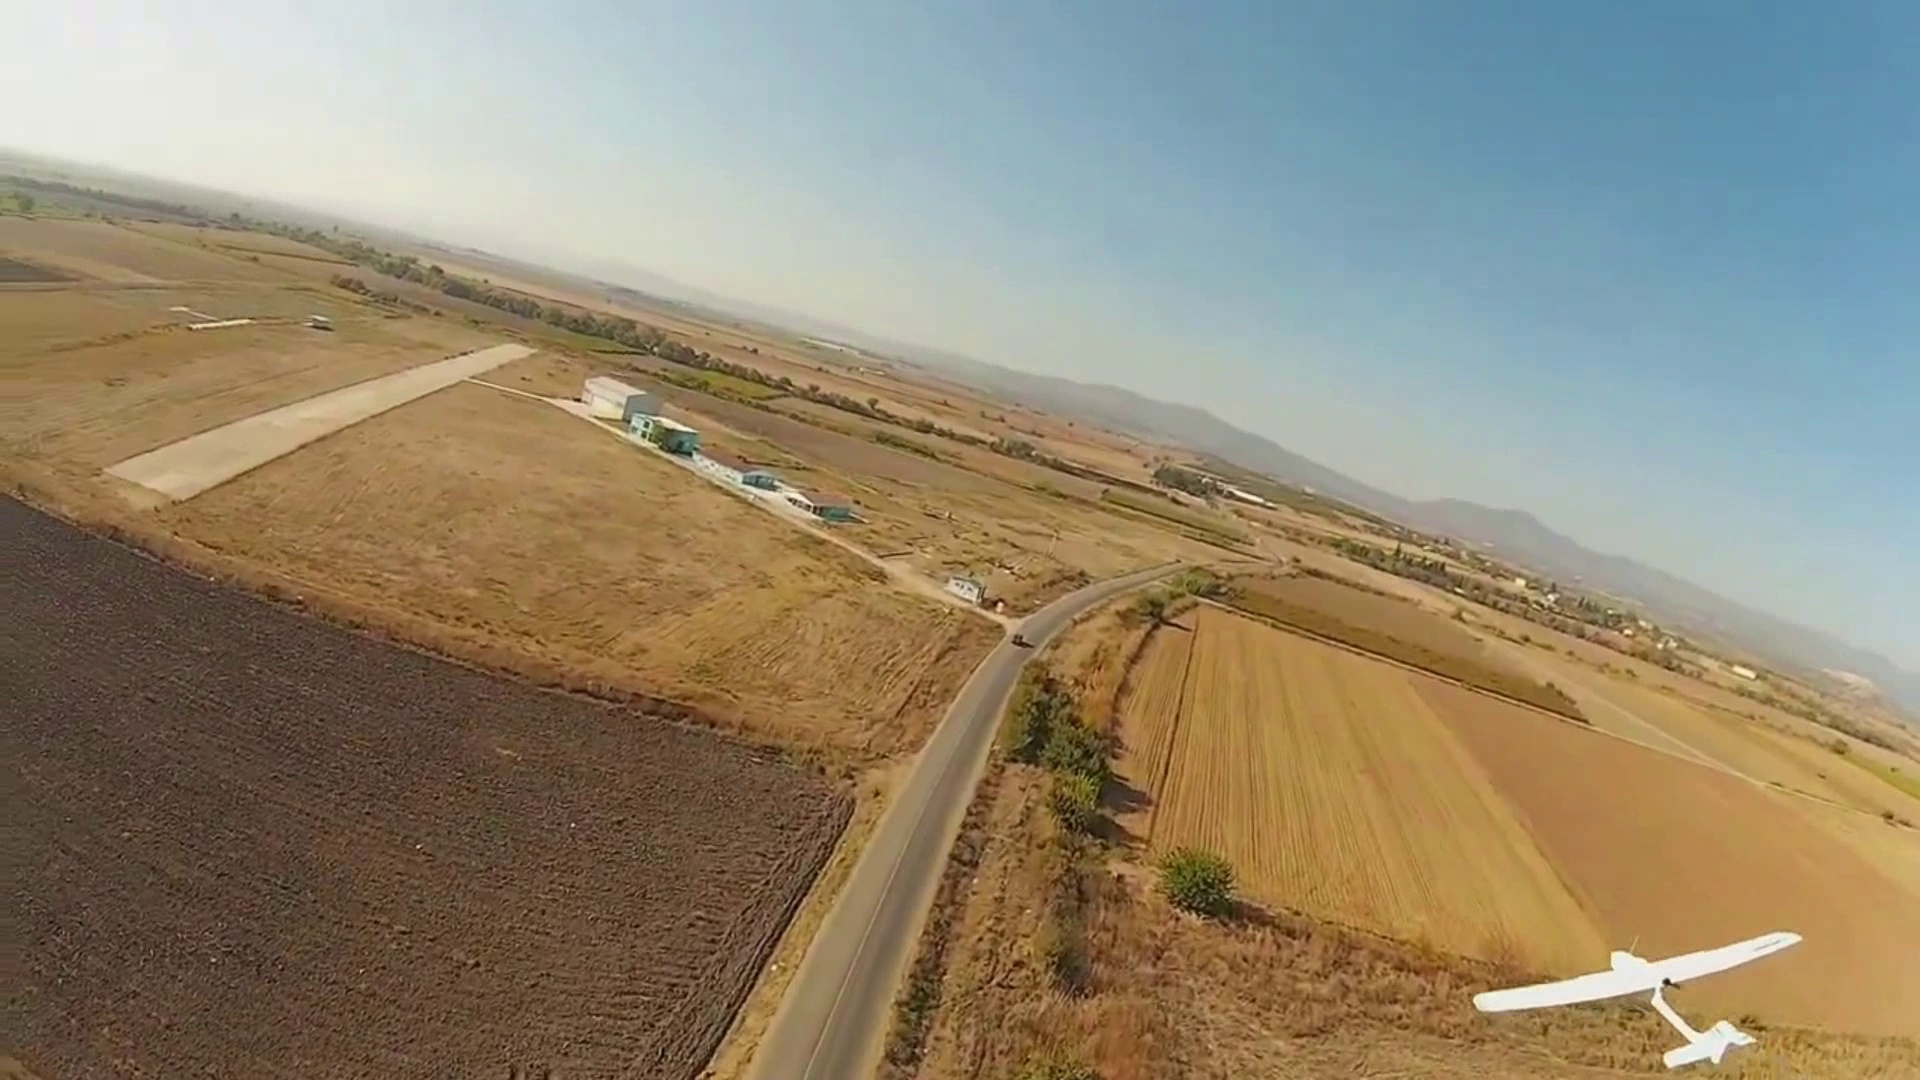airplane: (1473, 930, 1803, 1069)
